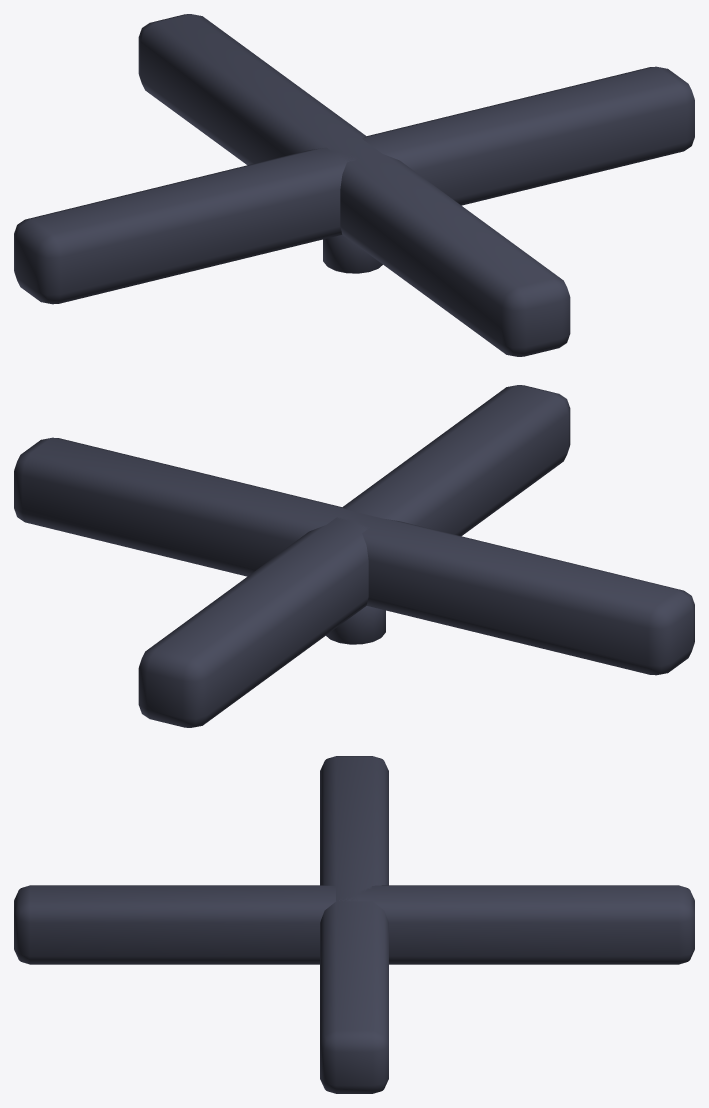
Rendered from Obstacle.fbx.
3 views of the same model, one above another, from view 1: azimuth 30°, elevation 25°; view 2: azimuth 150°, elevation 25°; view 3: azimuth 270°, elevation 25° (orthographic). The views are drawn at different scales.
Parts seen in each view (by area): view 1: Obstacle; view 2: Obstacle; view 3: Obstacle.
Part boxes in pixels (box(x1,y1,x2,y2)): Obstacle: box(14, 14, 694, 356); Obstacle: box(14, 385, 694, 727); Obstacle: box(14, 756, 694, 1093).
Size of the model in its own units: 142 by 22.79 by 142.
